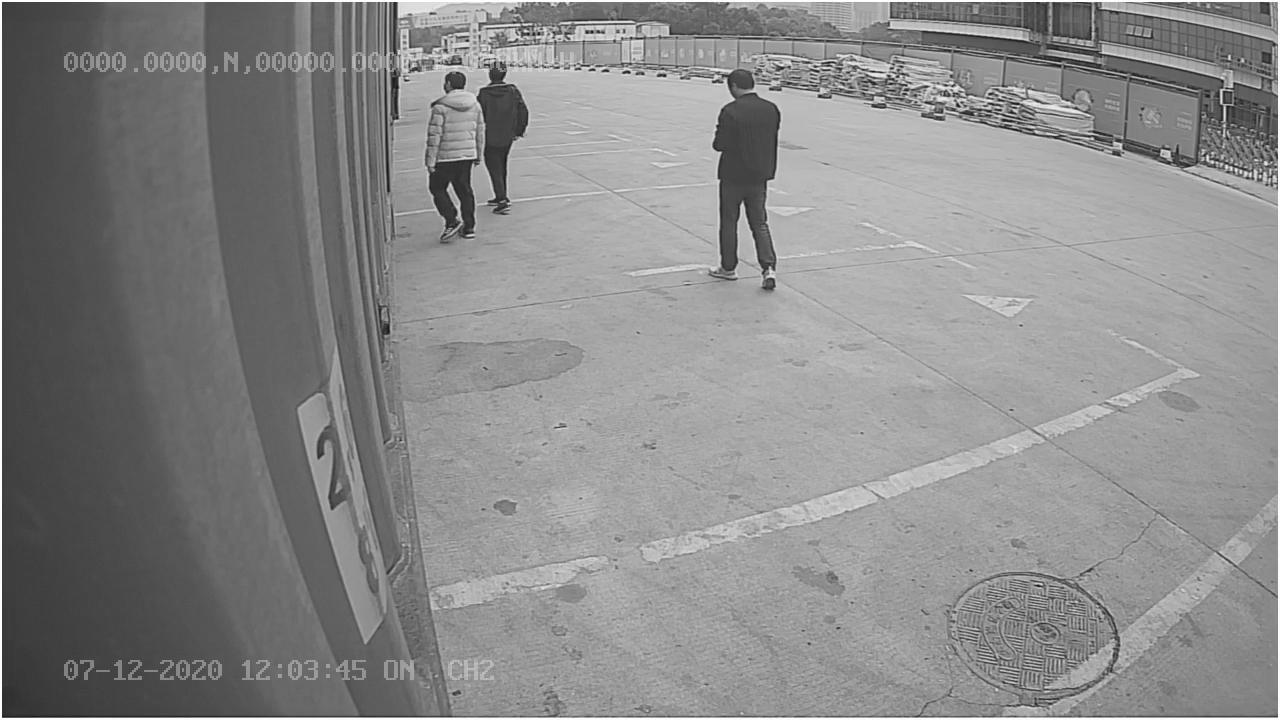person: (704, 65, 789, 291)
